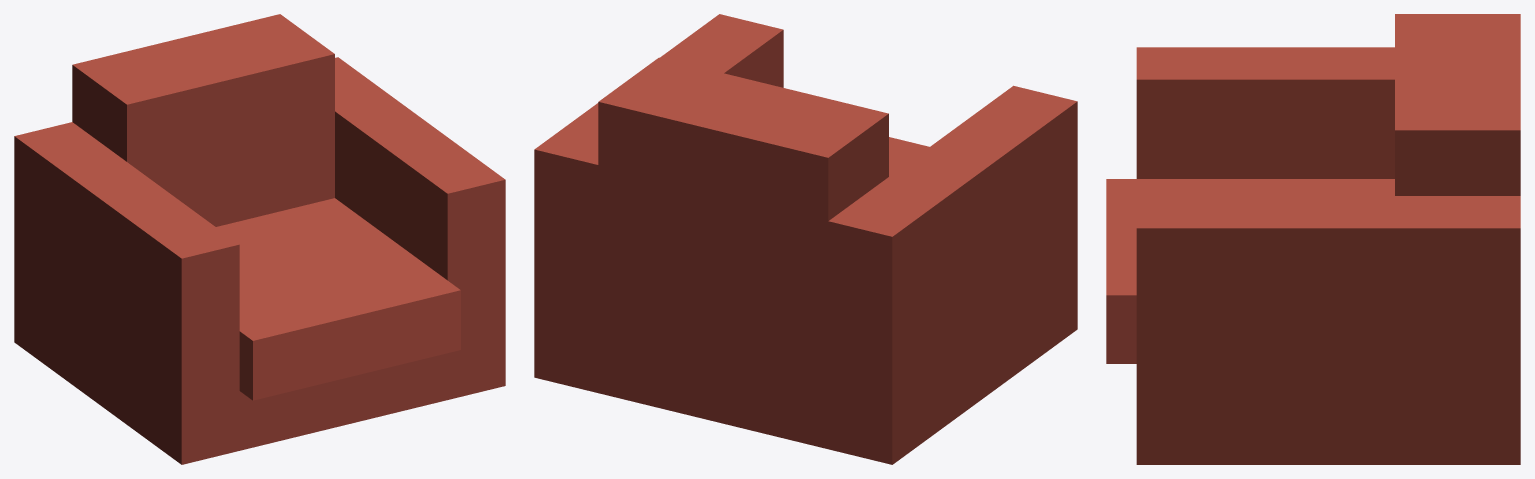
Rendered from SO_Couch_03.fbx.
The picture shows the model from 3 angles, left to right: view 1: azimuth 30°, elevation 25°; view 2: azimuth 150°, elevation 25°; view 3: azimuth 270°, elevation 25°; orthographic projection. The views are drawn at different scales.
Visible parts, largest first — view 1: SO_Couch_03; view 2: SO_Couch_03; view 3: SO_Couch_03.
Boxes of the visible parts, x1,y1,x2,y2 form: SO_Couch_03: [14, 14, 505, 464]; SO_Couch_03: [534, 14, 1077, 464]; SO_Couch_03: [1106, 14, 1520, 464].
Size of the model in its own units: 1.59 by 1.23 by 1.53.
